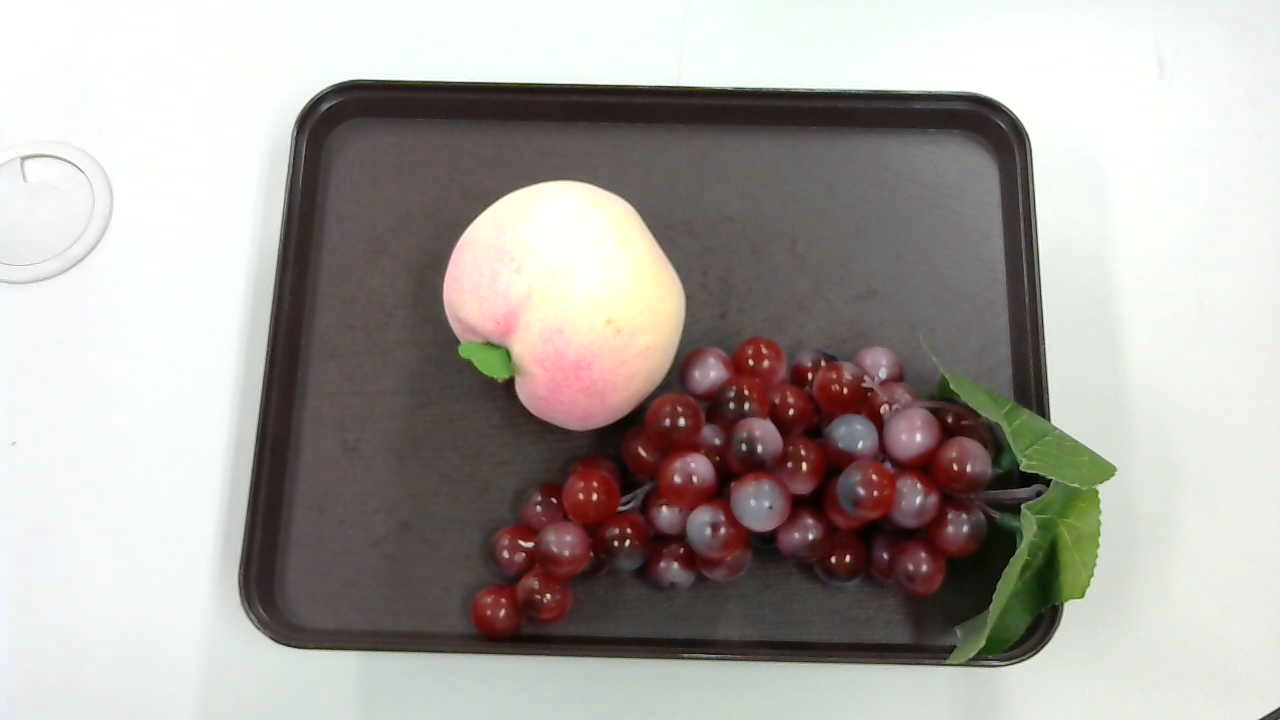grape: (464, 332, 1112, 676)
peach: (439, 178, 690, 432)
